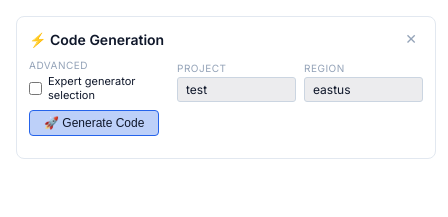
Test: CodePreview › shows error on GenerationError
Click the button "🚀 Generate Code" at (94, 123), box [29,110,159,136]
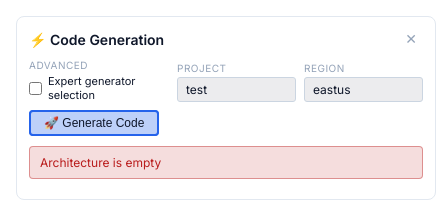
Expected: the text "Architecture is empty" is shown, [29,146,423,179]
